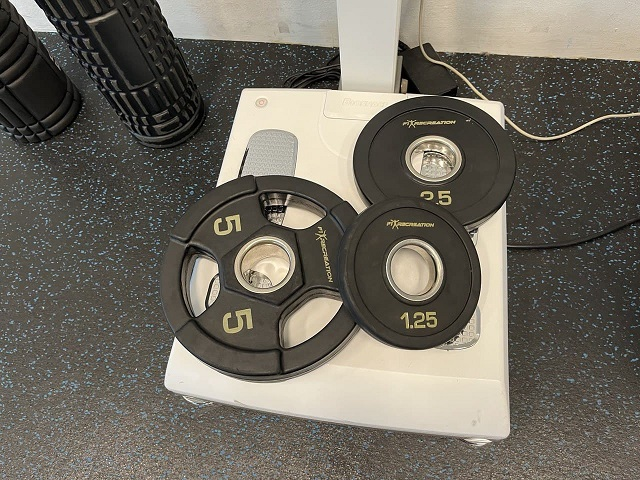weights: (156, 173, 367, 381), (351, 94, 516, 236), (339, 198, 486, 350)
